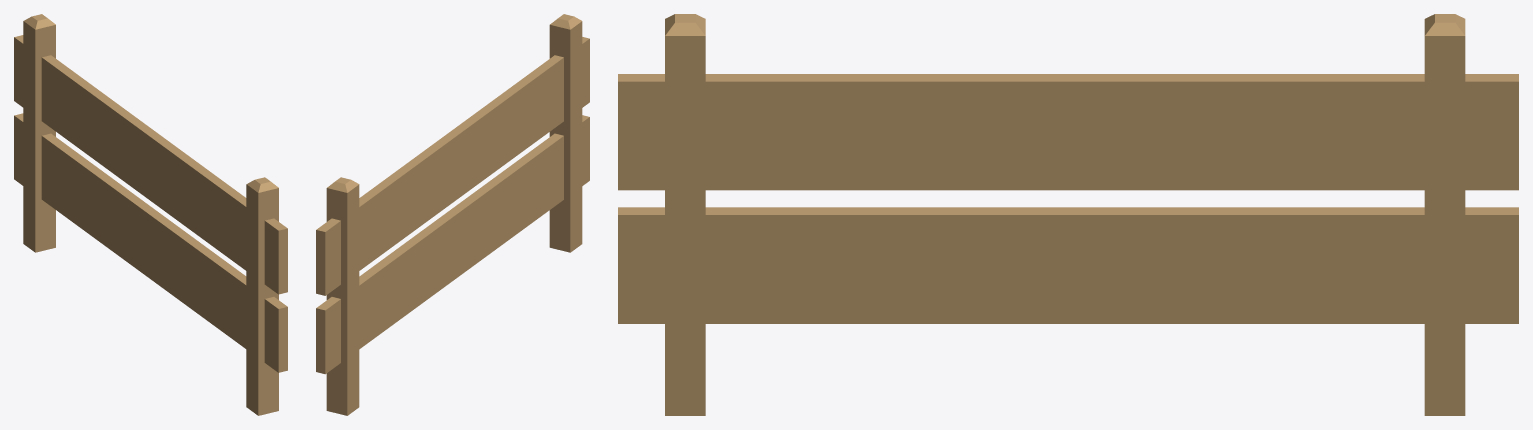
Rendered from O_Clutter_WoodenFence_1.fbx.
3 views of the same model, side by side, from view 1: azimuth 30°, elevation 25°; view 2: azimuth 150°, elevation 25°; view 3: azimuth 270°, elevation 25° (orthographic). The views are drawn at different scales.
Parts seen in each view (by area): view 1: pCube39; view 2: pCube39; view 3: pCube39.
Part boxes in pixels (x1,y1,x2,y2): pCube39: (14,14,287,415); pCube39: (316,14,589,415); pCube39: (618,14,1518,415).
Size of the model in its own units: 0.161 by 1.7 by 3.56.
